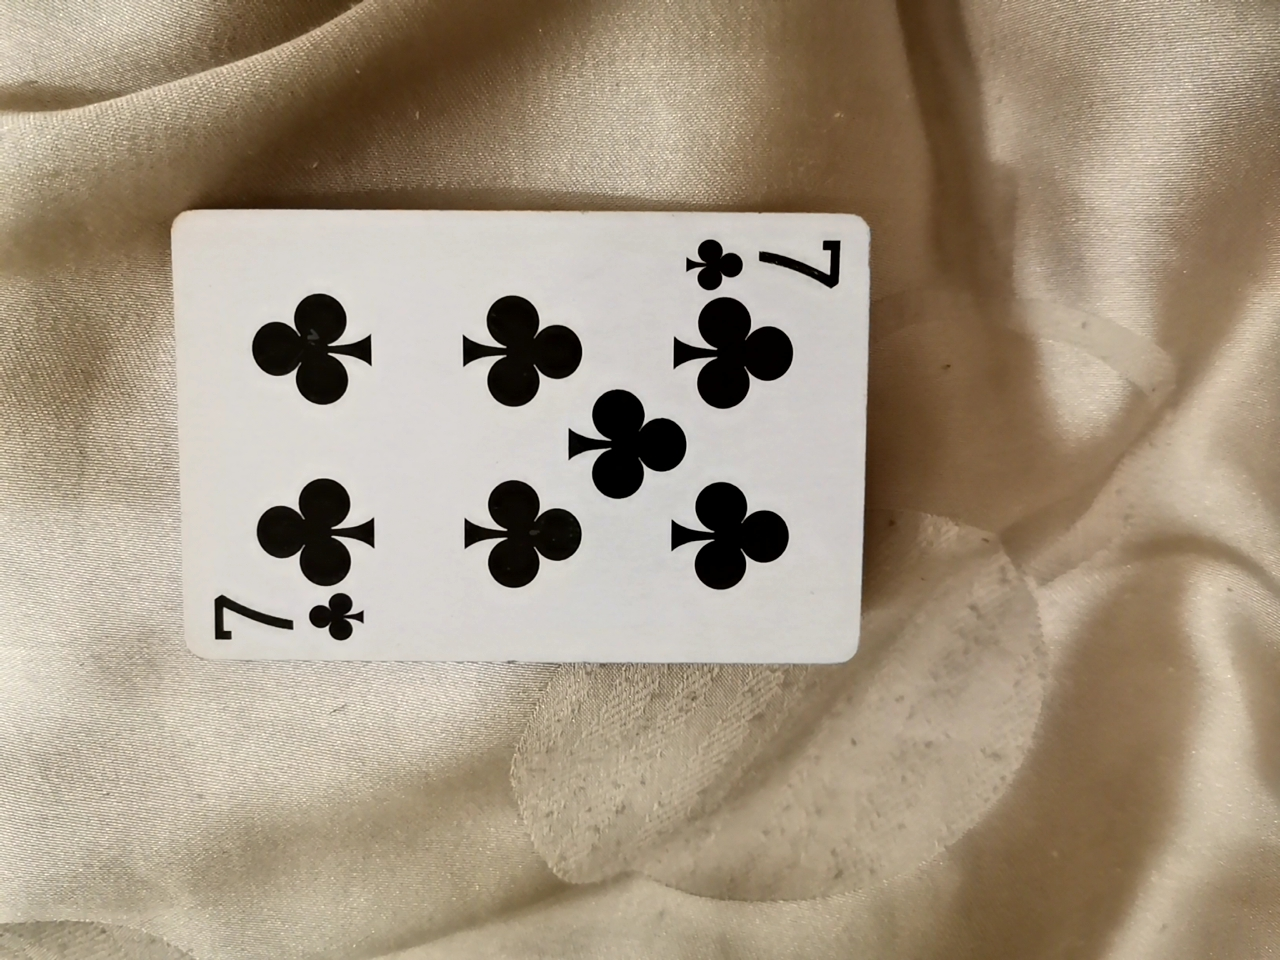mh 7: (148, 208, 896, 689)
